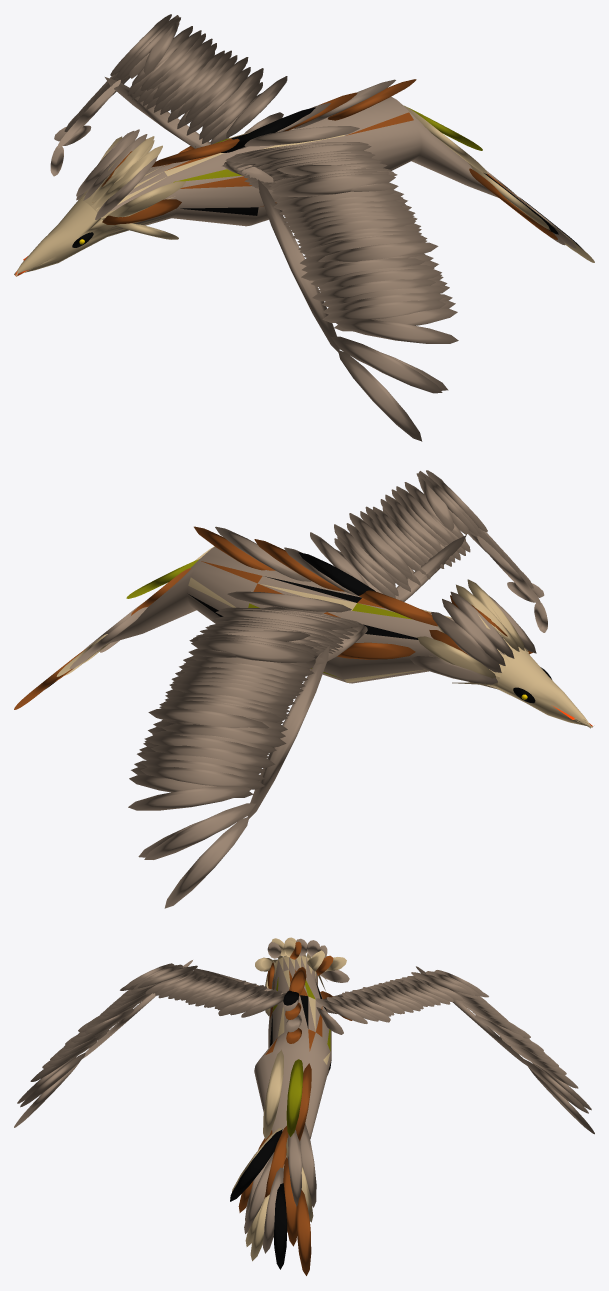
The model's file is birdie.fbx.
The picture shows the model from 3 angles, top to bottom: view 1: azimuth 30°, elevation 25°; view 2: azimuth 150°, elevation 25°; view 3: azimuth 270°, elevation 25°; orthographic projection. The views are drawn at different scales.
Parts seen in each view (by area): view 1: Group2, chamfer183, chamfer166, chamfer173, chamfer121, chamfer147, chamfer132, chamfer187, chamfer144, chamfer107, chamfer178, chamfer153 (+38 smaller); view 2: Group2, chamfer93, chamfer76, chamfer83, chamfer31, chamfer57, chamfer42, chamfer97, chamfer54, chamfer88, chamfer63, chamfer106 (+36 smaller); view 3: Group2, chamfer15, chamfer13, chamfer7, chamfer196, chamfer, chamfer11, chamfer8, chamfer14, chamfer12, chamfer1, chamfer6 (+8 smaller).
Part boxes in pixels (x1,y1,x2,y2): Group2: [14, 96, 498, 276]; chamfer183: [258, 179, 339, 352]; chamfer166: [331, 336, 442, 393]; chamfer173: [335, 319, 458, 343]; chamfer121: [338, 350, 422, 441]; chamfer147: [272, 173, 395, 196]; chamfer132: [322, 300, 445, 322]; chamfer187: [318, 242, 438, 261]; chamfer144: [244, 126, 359, 146]; chamfer107: [105, 77, 210, 148]; chamfer178: [301, 258, 424, 280]; chamfer153: [312, 279, 435, 301]; Group2: [108, 547, 593, 728]; chamfer93: [247, 645, 329, 819]; chamfer76: [144, 803, 255, 859]; chamfer83: [128, 786, 251, 810]; chamfer31: [164, 817, 248, 908]; chamfer57: [191, 639, 315, 662]; chamfer42: [140, 767, 264, 789]; chamfer97: [148, 708, 269, 728]; chamfer54: [227, 591, 351, 612]; chamfer88: [162, 724, 286, 746]; chamfer63: [151, 745, 275, 767]; chamfer106: [431, 612, 501, 672]; Group2: [254, 953, 331, 1168]; chamfer15: [263, 1049, 283, 1139]; chamfer13: [296, 1190, 311, 1275]; chamfer7: [230, 1129, 282, 1201]; chamfer196: [286, 1059, 303, 1136]; chamfer: [273, 1183, 287, 1269]; chamfer11: [288, 1130, 302, 1206]; chamfer8: [300, 1123, 316, 1207]; chamfer14: [263, 1167, 283, 1253]; chamfer12: [283, 1157, 296, 1246]; chamfer1: [244, 1153, 273, 1233]; chamfer6: [264, 1126, 288, 1198].
Bounding box in the file's own units: 134 × 51.34 × 151.
